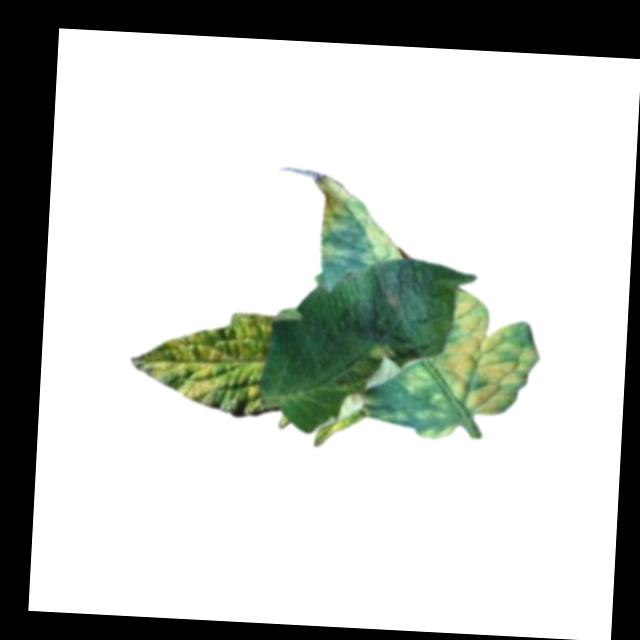Leaf_Mold: (125, 302, 272, 419), (435, 286, 545, 415), (317, 171, 410, 265), (397, 363, 430, 396), (366, 334, 400, 363)
